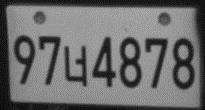4: (91, 36, 116, 87)
7: (144, 38, 169, 89), (38, 35, 61, 85)
8: (171, 38, 195, 89), (119, 36, 142, 88)
9: (13, 35, 36, 85)
너: (63, 45, 87, 87)
